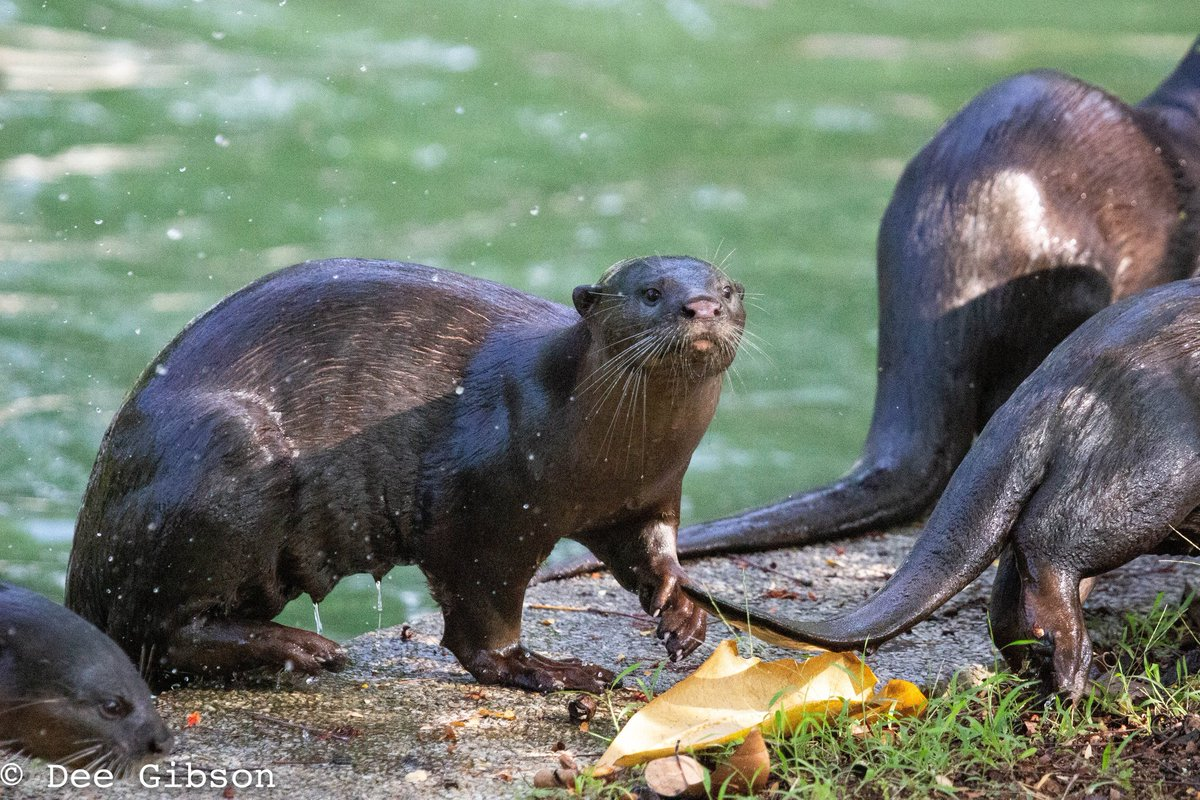otter: (58, 231, 758, 707)
